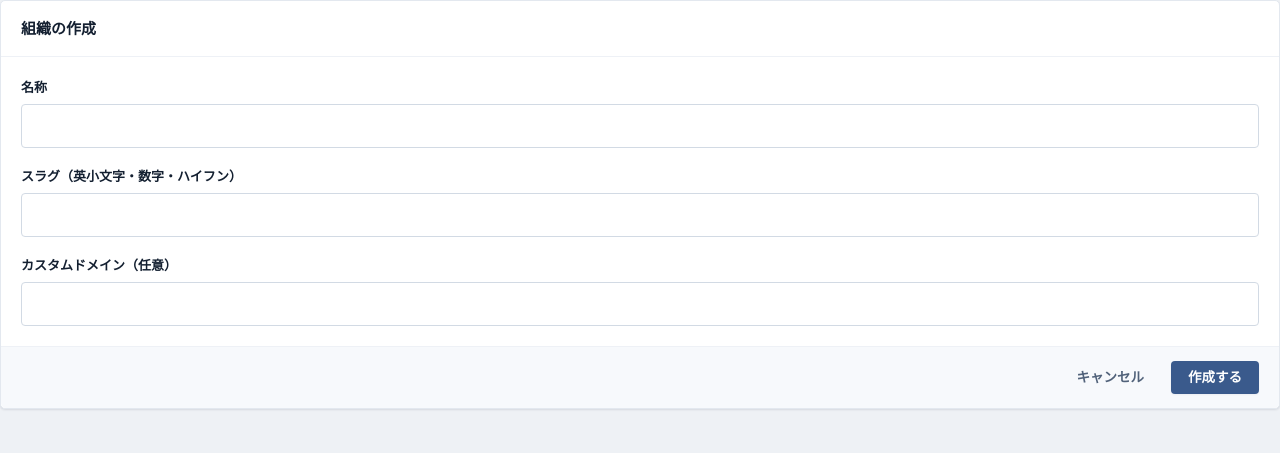
CreateOrganizationForm › rejects an invalid slug with the pattern message
Type "Acme" into the field labelled "名称" at {"x": 640, "y": 126}, box x1=21 y1=104 x2=1259 y2=148
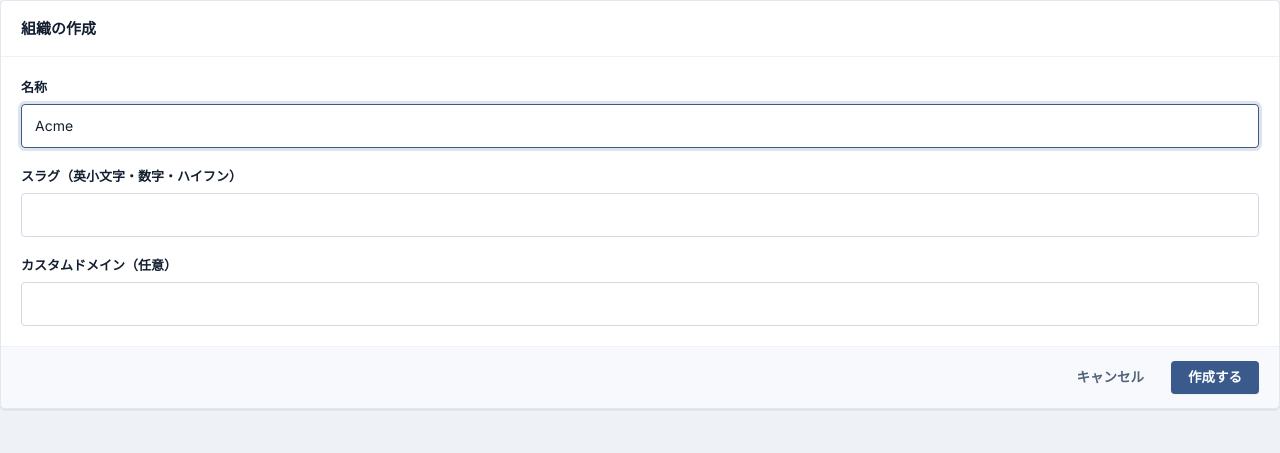
Type "Acme Corp!" into the field labelled "スラグ（英小文字・数字・ハイフン）" at {"x": 640, "y": 215}, box x1=21 y1=193 x2=1259 y2=237
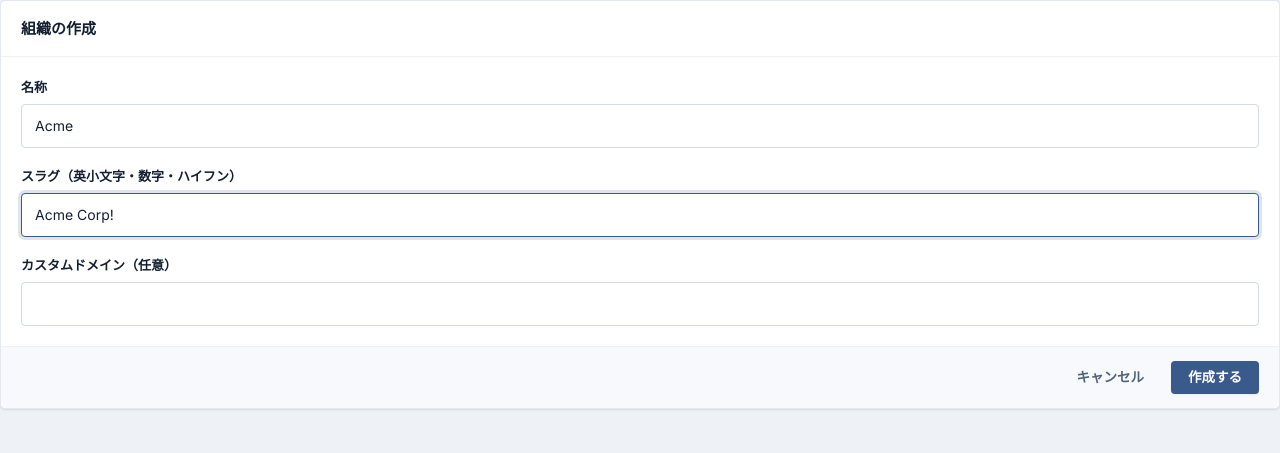
Click the button with test id "org-create-submit" at {"x": 1215, "y": 377}, box x1=1171 y1=361 x2=1259 y2=394
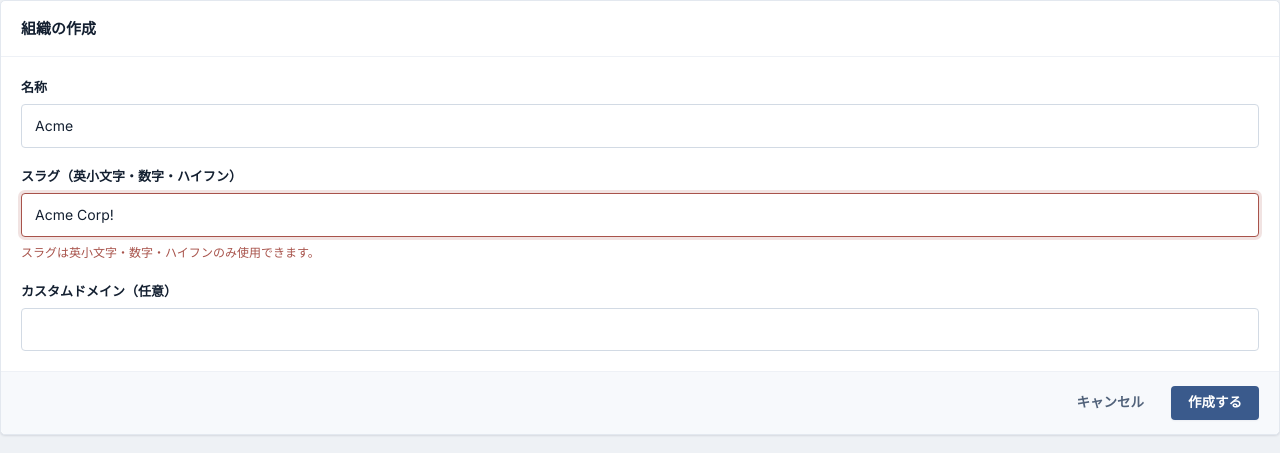
Now the text "スラグは英小文字・数字・ハイフンのみ使用できます。" is shown, box x1=21 y1=245 x2=320 y2=260
